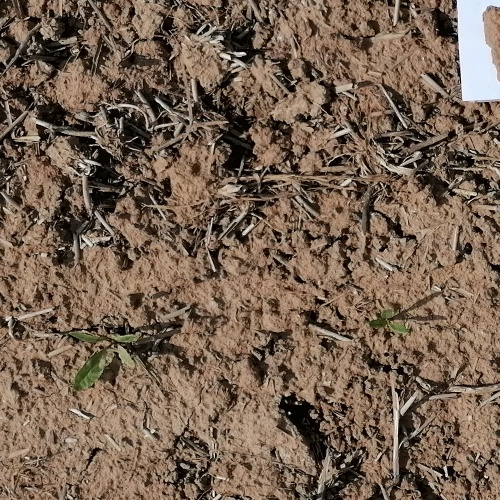beet: (73, 327, 142, 393), (373, 308, 407, 337)
